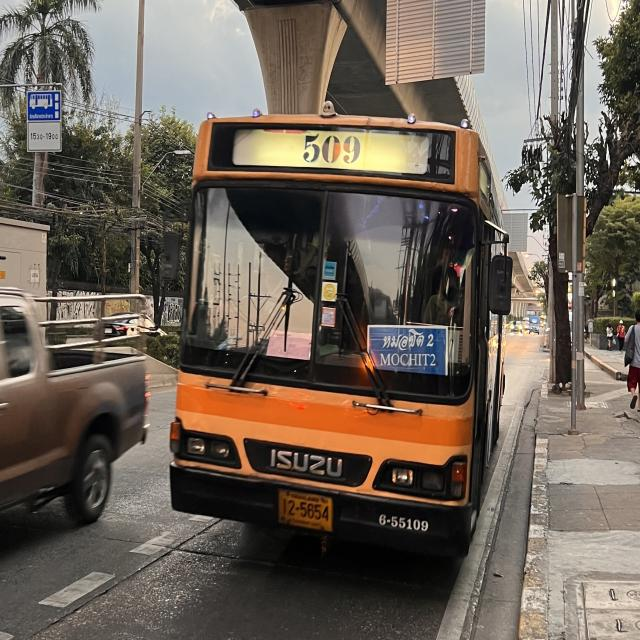BMTA-bus: (168, 112, 512, 559)
Bus Line Number: (305, 131, 360, 166)
Bus Side Number: (377, 516, 430, 533)
Destination Sign: (369, 326, 445, 376)
